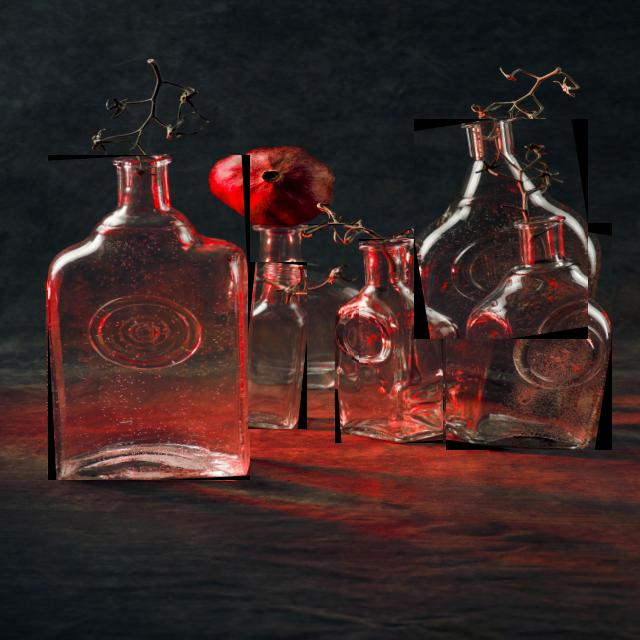Bottle: (47, 156, 249, 479), (445, 224, 610, 449), (413, 120, 534, 338), (334, 240, 442, 442), (247, 284, 305, 428), (296, 280, 358, 388)
